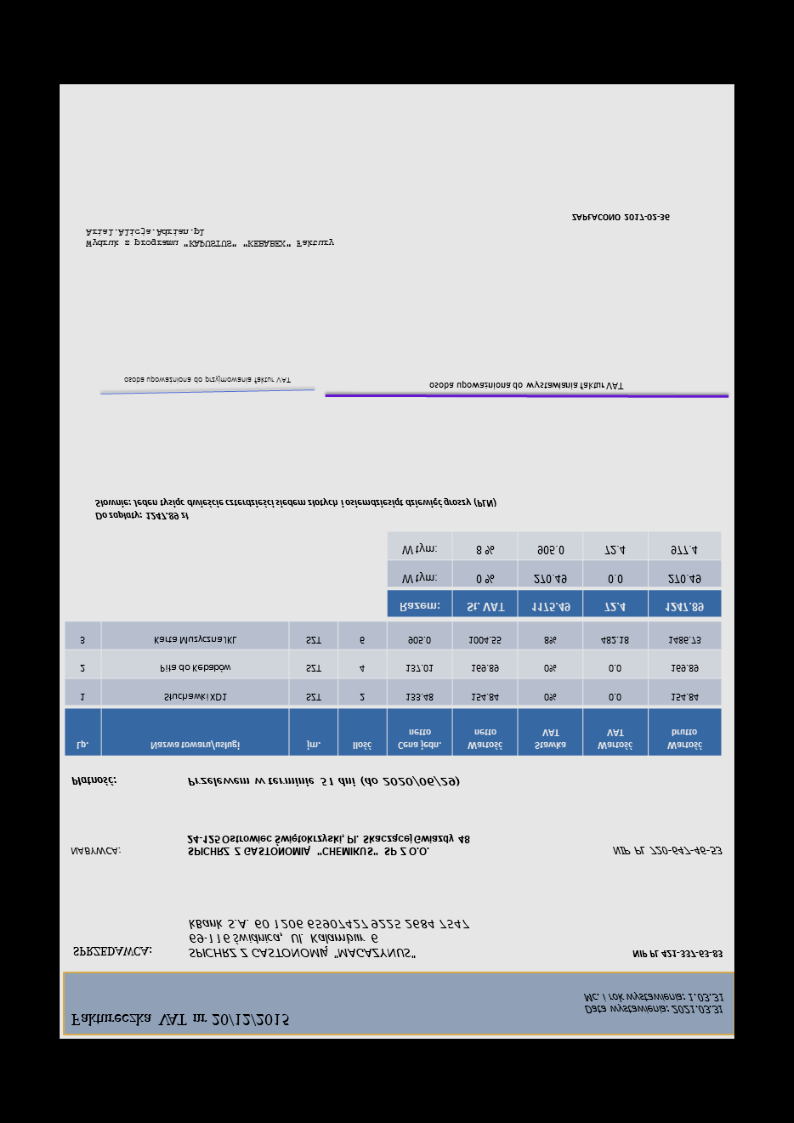Table: (63, 622, 722, 757), (386, 530, 723, 618)
TextBox: (184, 915, 472, 961), (93, 495, 497, 524), (184, 831, 472, 859), (82, 227, 337, 249), (582, 989, 726, 1018), (70, 1011, 291, 1029), (186, 775, 461, 789), (427, 378, 626, 392), (122, 375, 292, 387), (610, 843, 723, 858), (630, 947, 725, 962), (70, 943, 154, 959), (569, 212, 671, 224), (69, 774, 117, 789), (69, 845, 122, 858)
